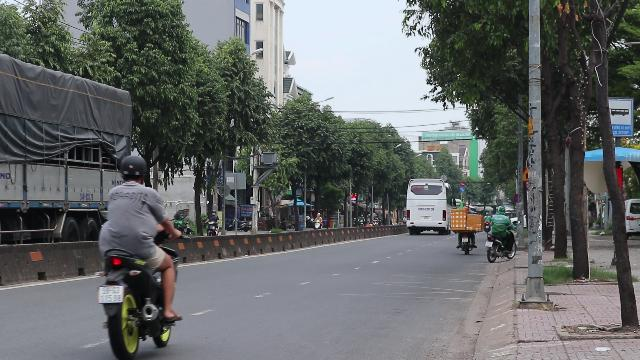helmet: (118, 153, 148, 183)
licenseplate: (98, 285, 124, 303)
motorcyclist: (92, 152, 184, 356)
